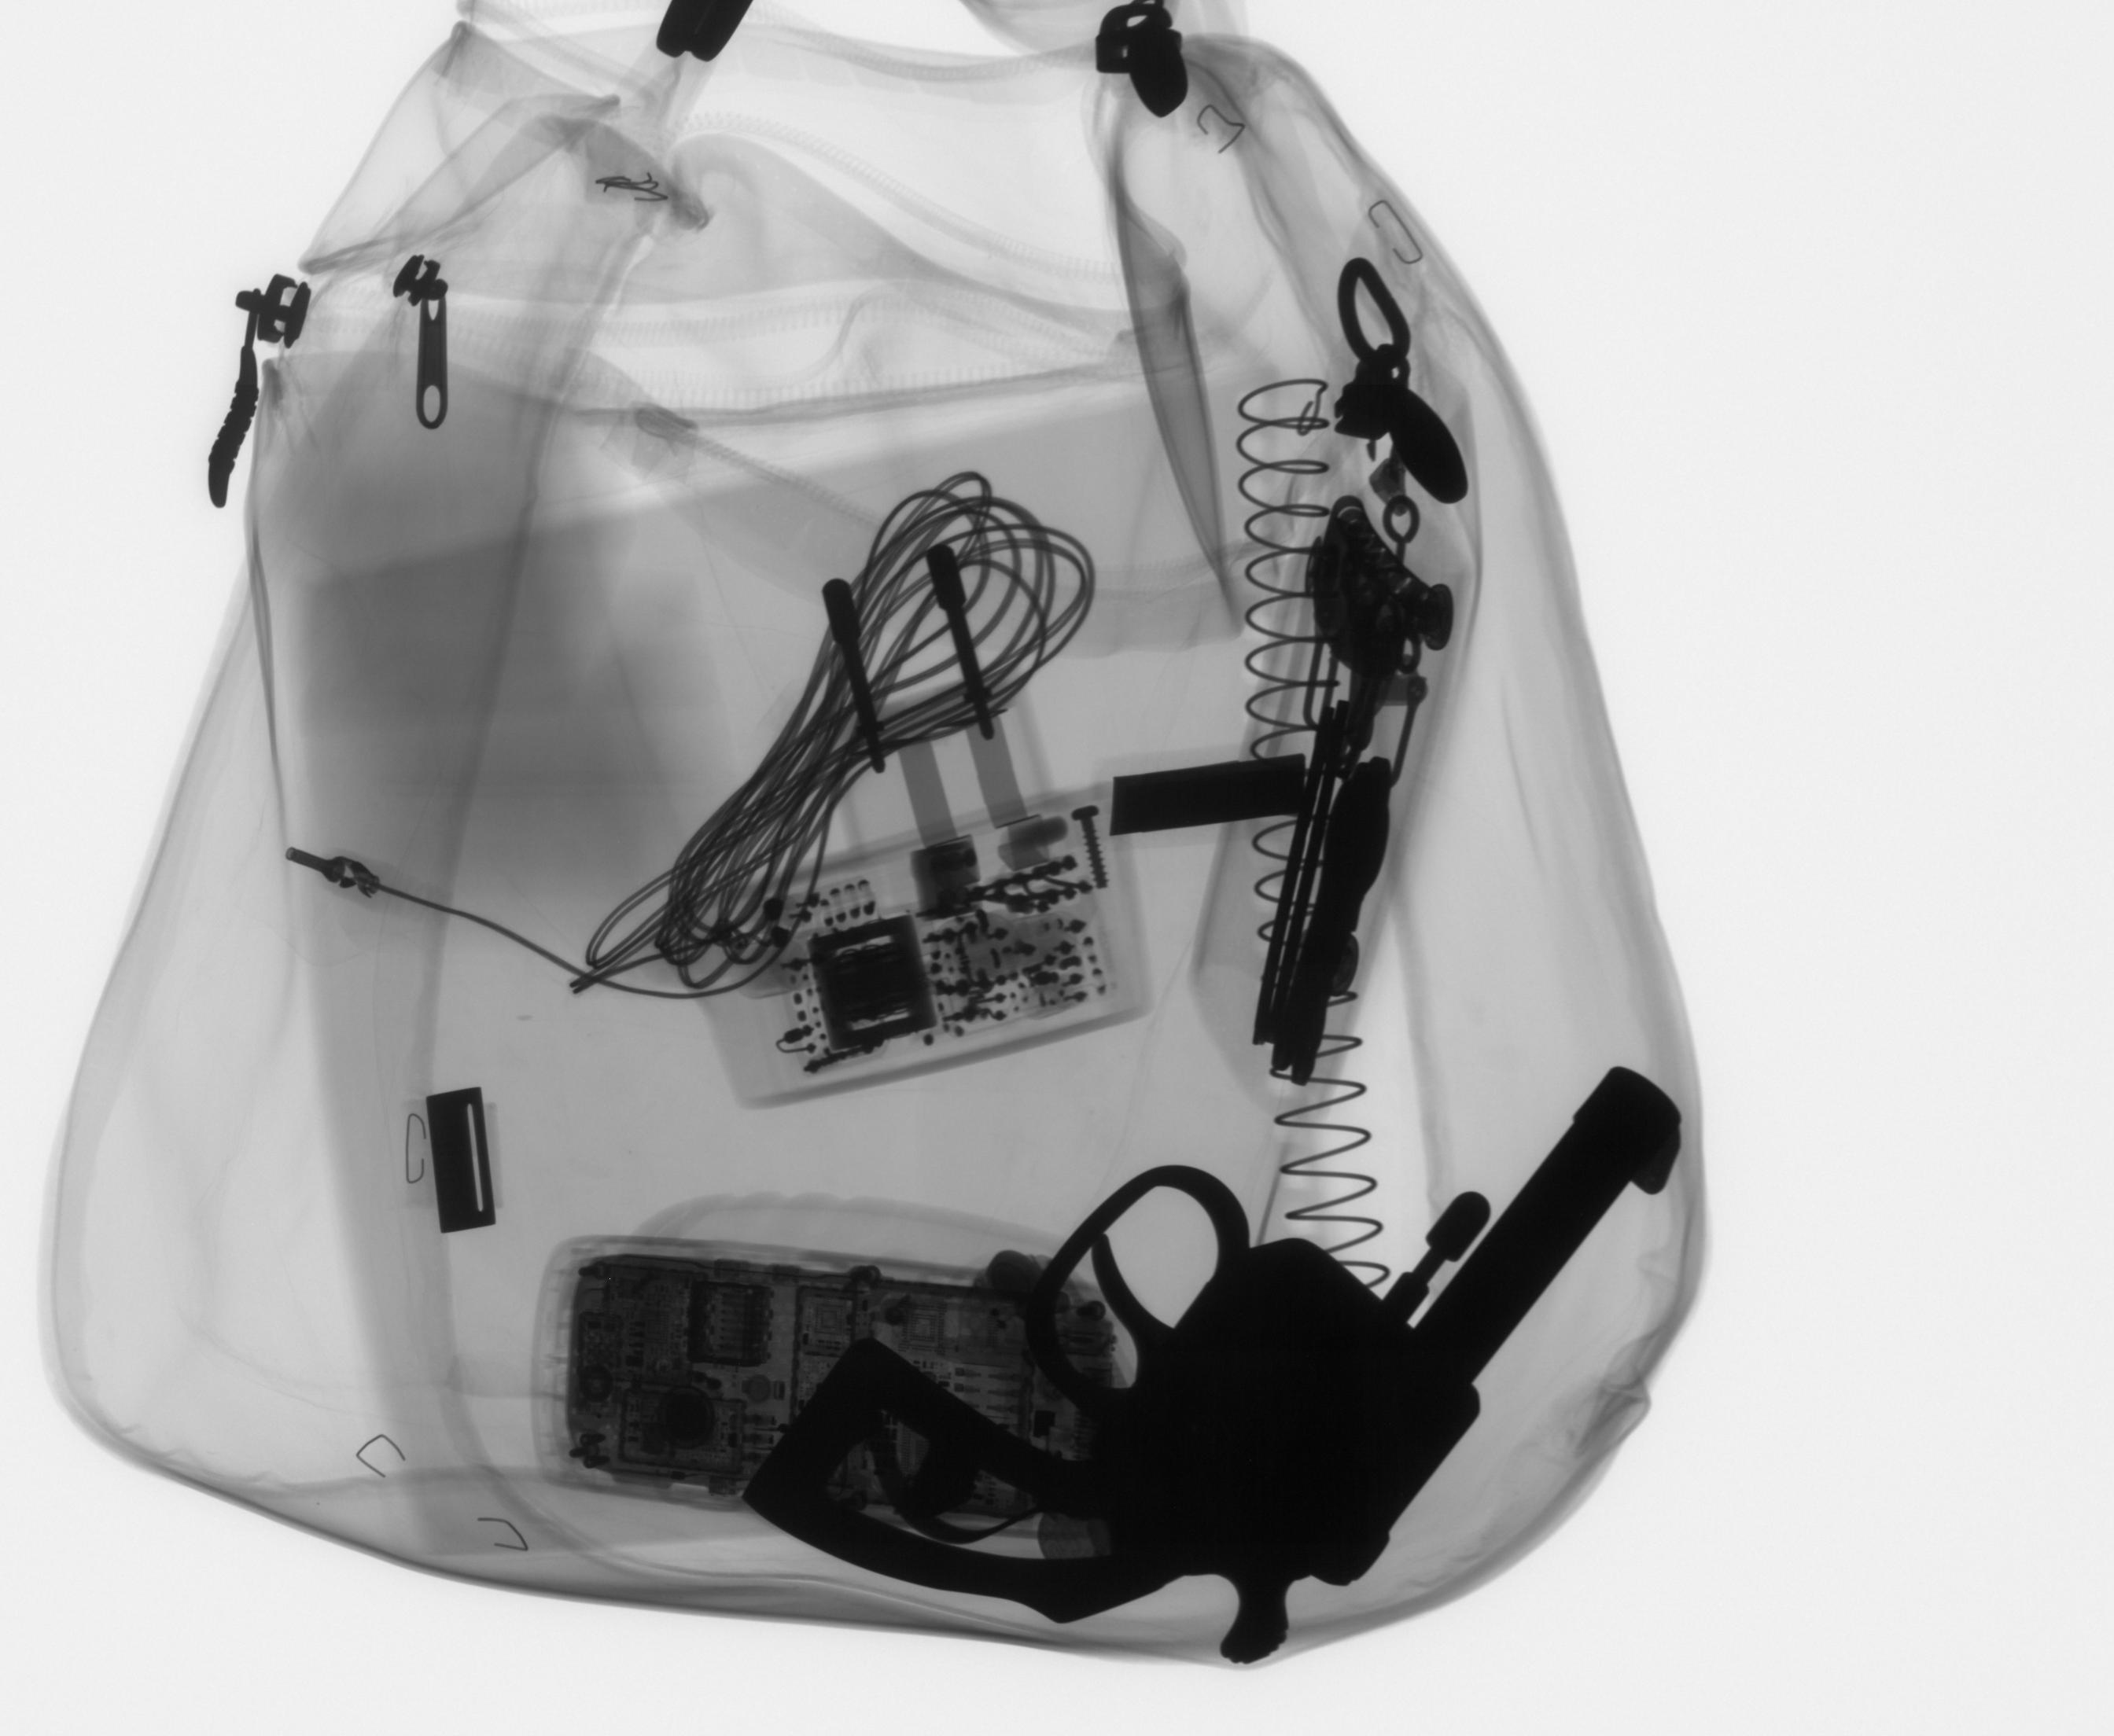Handgun: (735, 1058, 1689, 1661)
